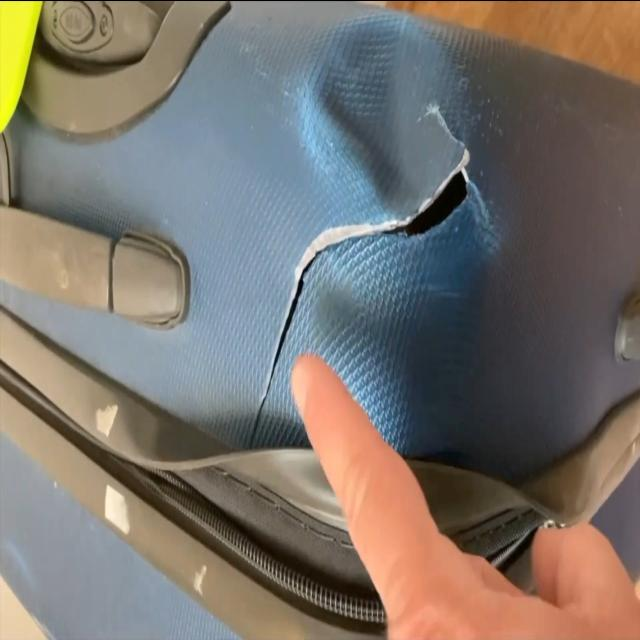Damage-bag: (251, 16, 470, 444), (385, 156, 504, 296)
